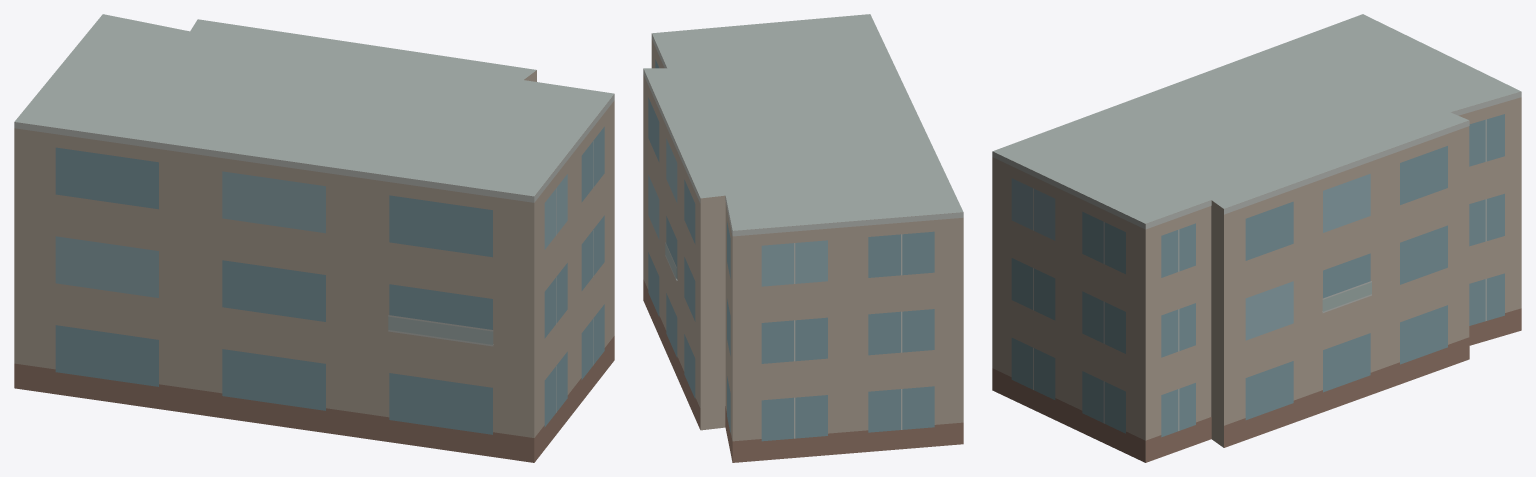
The model's file is survey-upis-32781434.glb.
3 views of the same model, side by side, from view 1: azimuth 30°, elevation 25°; view 2: azimuth 150°, elevation 25°; view 3: azimuth 270°, elevation 25° (orthographic). The views are drawn at different scales.
Parts seen in each view (by area): view 1: survey-upis-32781434.tmp; view 2: survey-upis-32781434.tmp; view 3: survey-upis-32781434.tmp.
Part boxes in pixels (bbox=[...]): survey-upis-32781434.tmp: bbox=[14, 14, 614, 462]; survey-upis-32781434.tmp: bbox=[643, 14, 963, 462]; survey-upis-32781434.tmp: bbox=[992, 14, 1521, 462].
Bounding box in the file's own units: 19.21 × 10.2 × 20.47.
